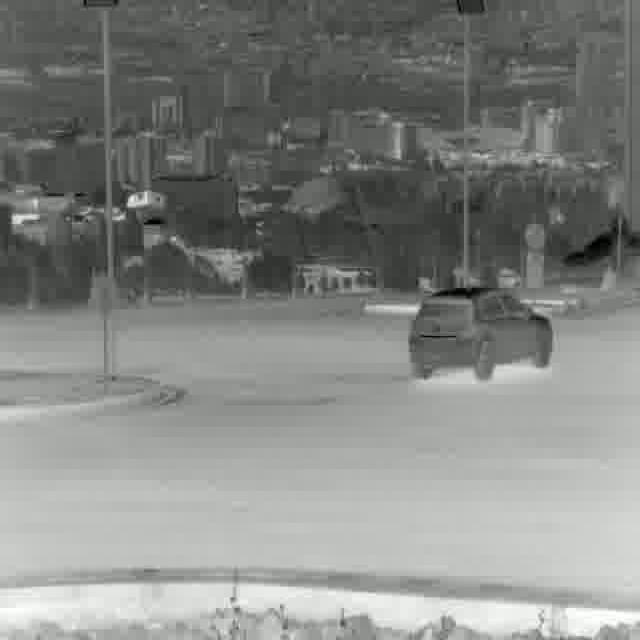Car: (410, 285, 552, 378)
